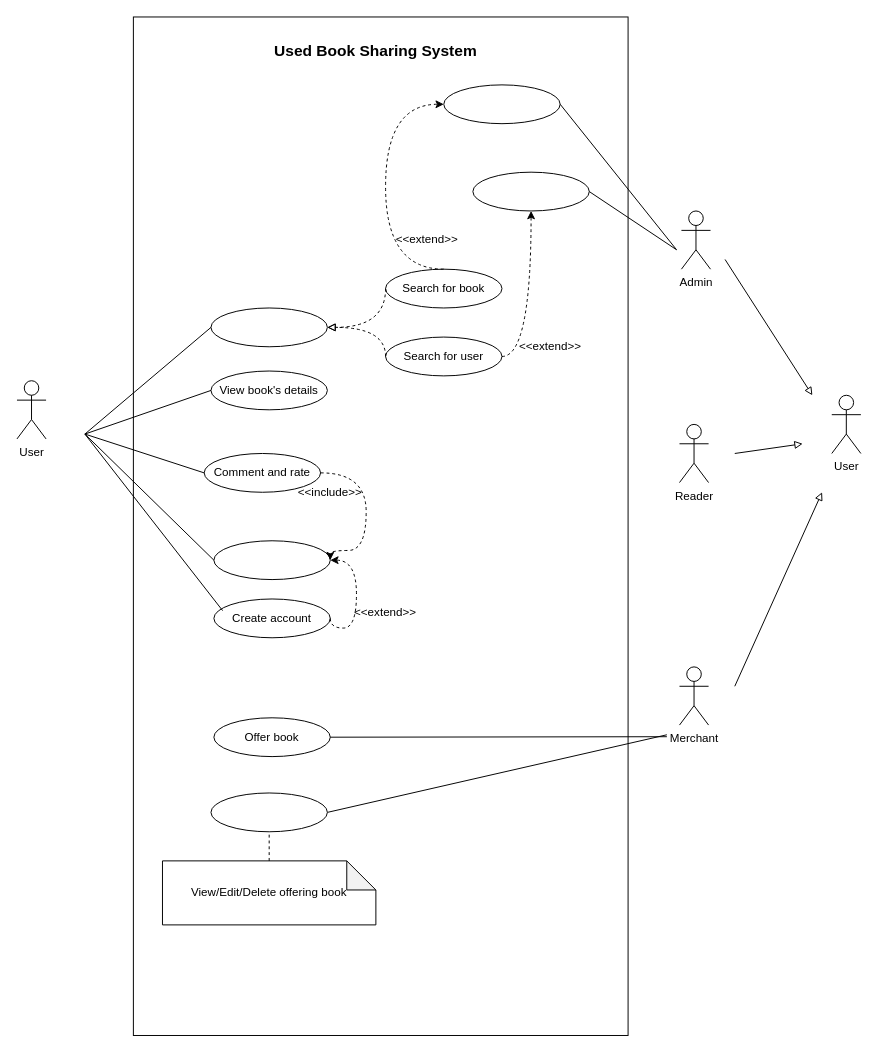
Image size: 878x1052. Some labels were removed from this diagram. The shapes that lost their labels are listed below. From the top down, each one's centre as x and y in pixels, then its label:
At pixel 501 104: "Delete book".
At pixel 530 191: "Ban account".
At pixel 268 327: "Search".
At pixel 271 560: "Log in".
At pixel 268 812: "Manage offering books".
